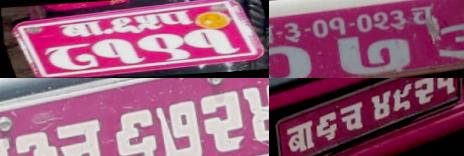0: (269, 40, 316, 78), (310, 17, 330, 41), (355, 12, 373, 35)
1: (180, 27, 243, 56), (88, 37, 143, 66), (432, 78, 460, 99), (327, 15, 349, 38)
2: (196, 85, 247, 156), (411, 78, 439, 108), (372, 11, 391, 34)
3: (432, 16, 464, 67), (9, 127, 63, 156), (281, 20, 303, 45), (389, 7, 409, 32)
4: (238, 78, 269, 151), (367, 89, 396, 124)
5: (133, 13, 164, 31)
6: (103, 103, 161, 156), (311, 108, 343, 147), (107, 16, 139, 34)
7: (330, 27, 417, 78), (152, 95, 205, 156)
8: (40, 43, 100, 70)
9: (133, 32, 193, 62), (389, 81, 417, 117)
ba: (281, 117, 318, 156), (57, 21, 104, 38)
cha: (51, 113, 111, 156), (336, 100, 369, 136), (408, 3, 438, 28)
pa: (156, 10, 196, 26)
